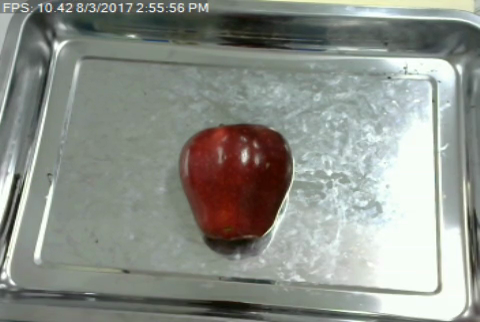Apple: (173, 119, 297, 245)
